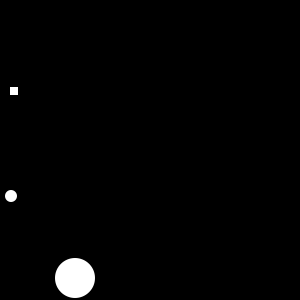circle: (10, 87, 18, 95)
rectangle: (55, 258, 95, 298), (5, 190, 17, 202)
